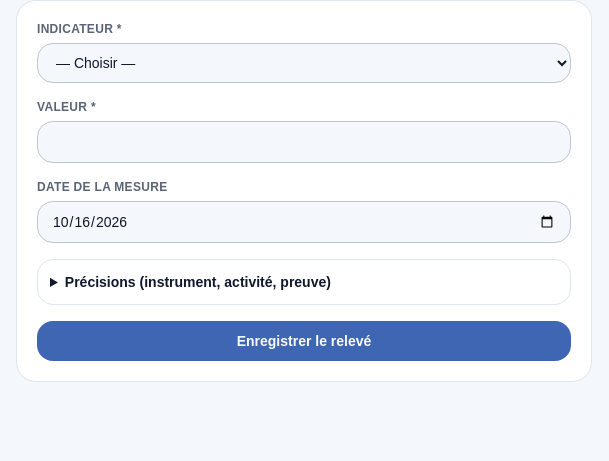
saisie rapide › refuse une valeur non numérique avant tout envoi
Step 1. Select "Consommation d'eau (m³)" in the dropdown labelled "Indicateur *" → (304, 63), box [37, 43, 571, 83]
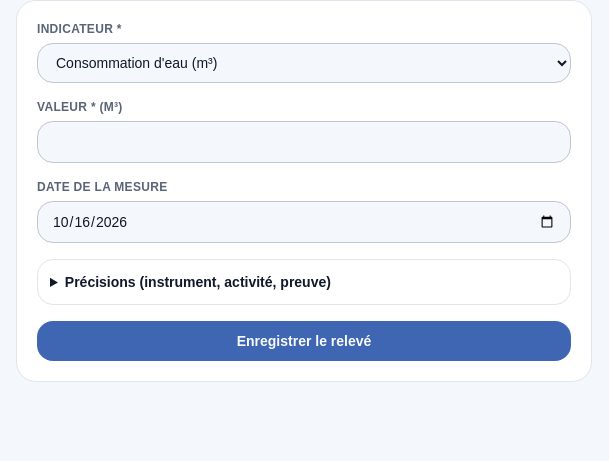
Step 2. Type "abc" into the field labelled "Valeur * (m³)" → (304, 142), box [37, 121, 571, 163]
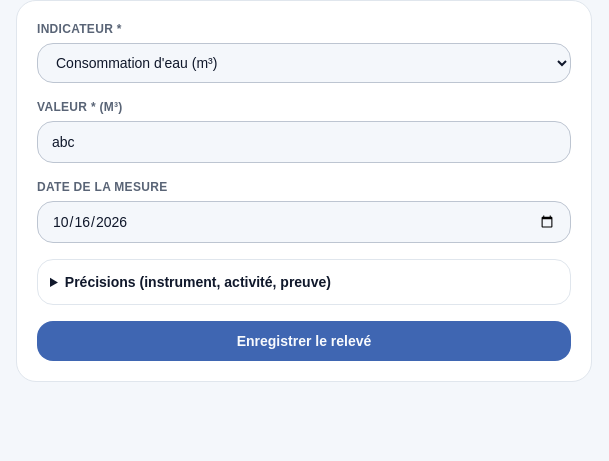
Step 3. Click the button "Enregistrer le relevé" → (304, 341), box [37, 321, 571, 361]
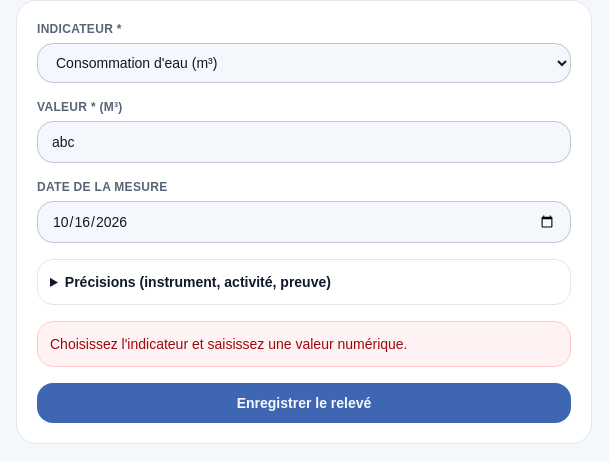
Check: the message shows "valeur numérique", box [50, 336, 408, 352]
